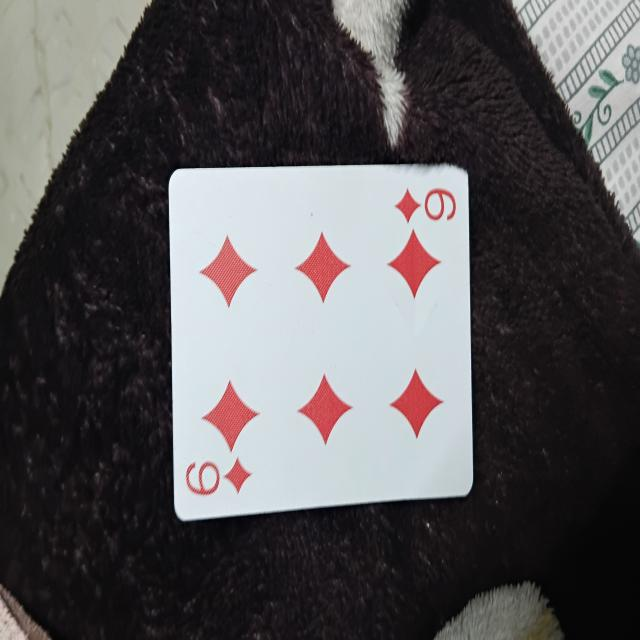6D: (167, 152, 471, 529)
